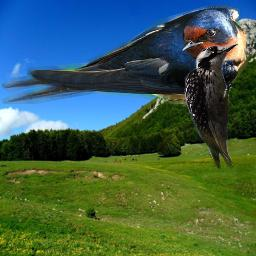Swallow: (2, 5, 250, 104)
Woodpecker: (180, 37, 243, 176)
